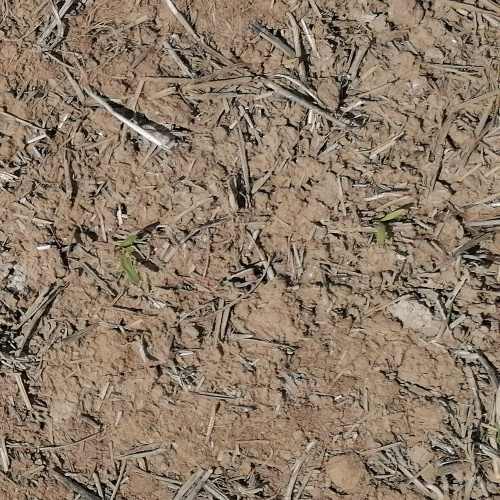beet: (111, 233, 146, 286), (374, 208, 408, 247)
